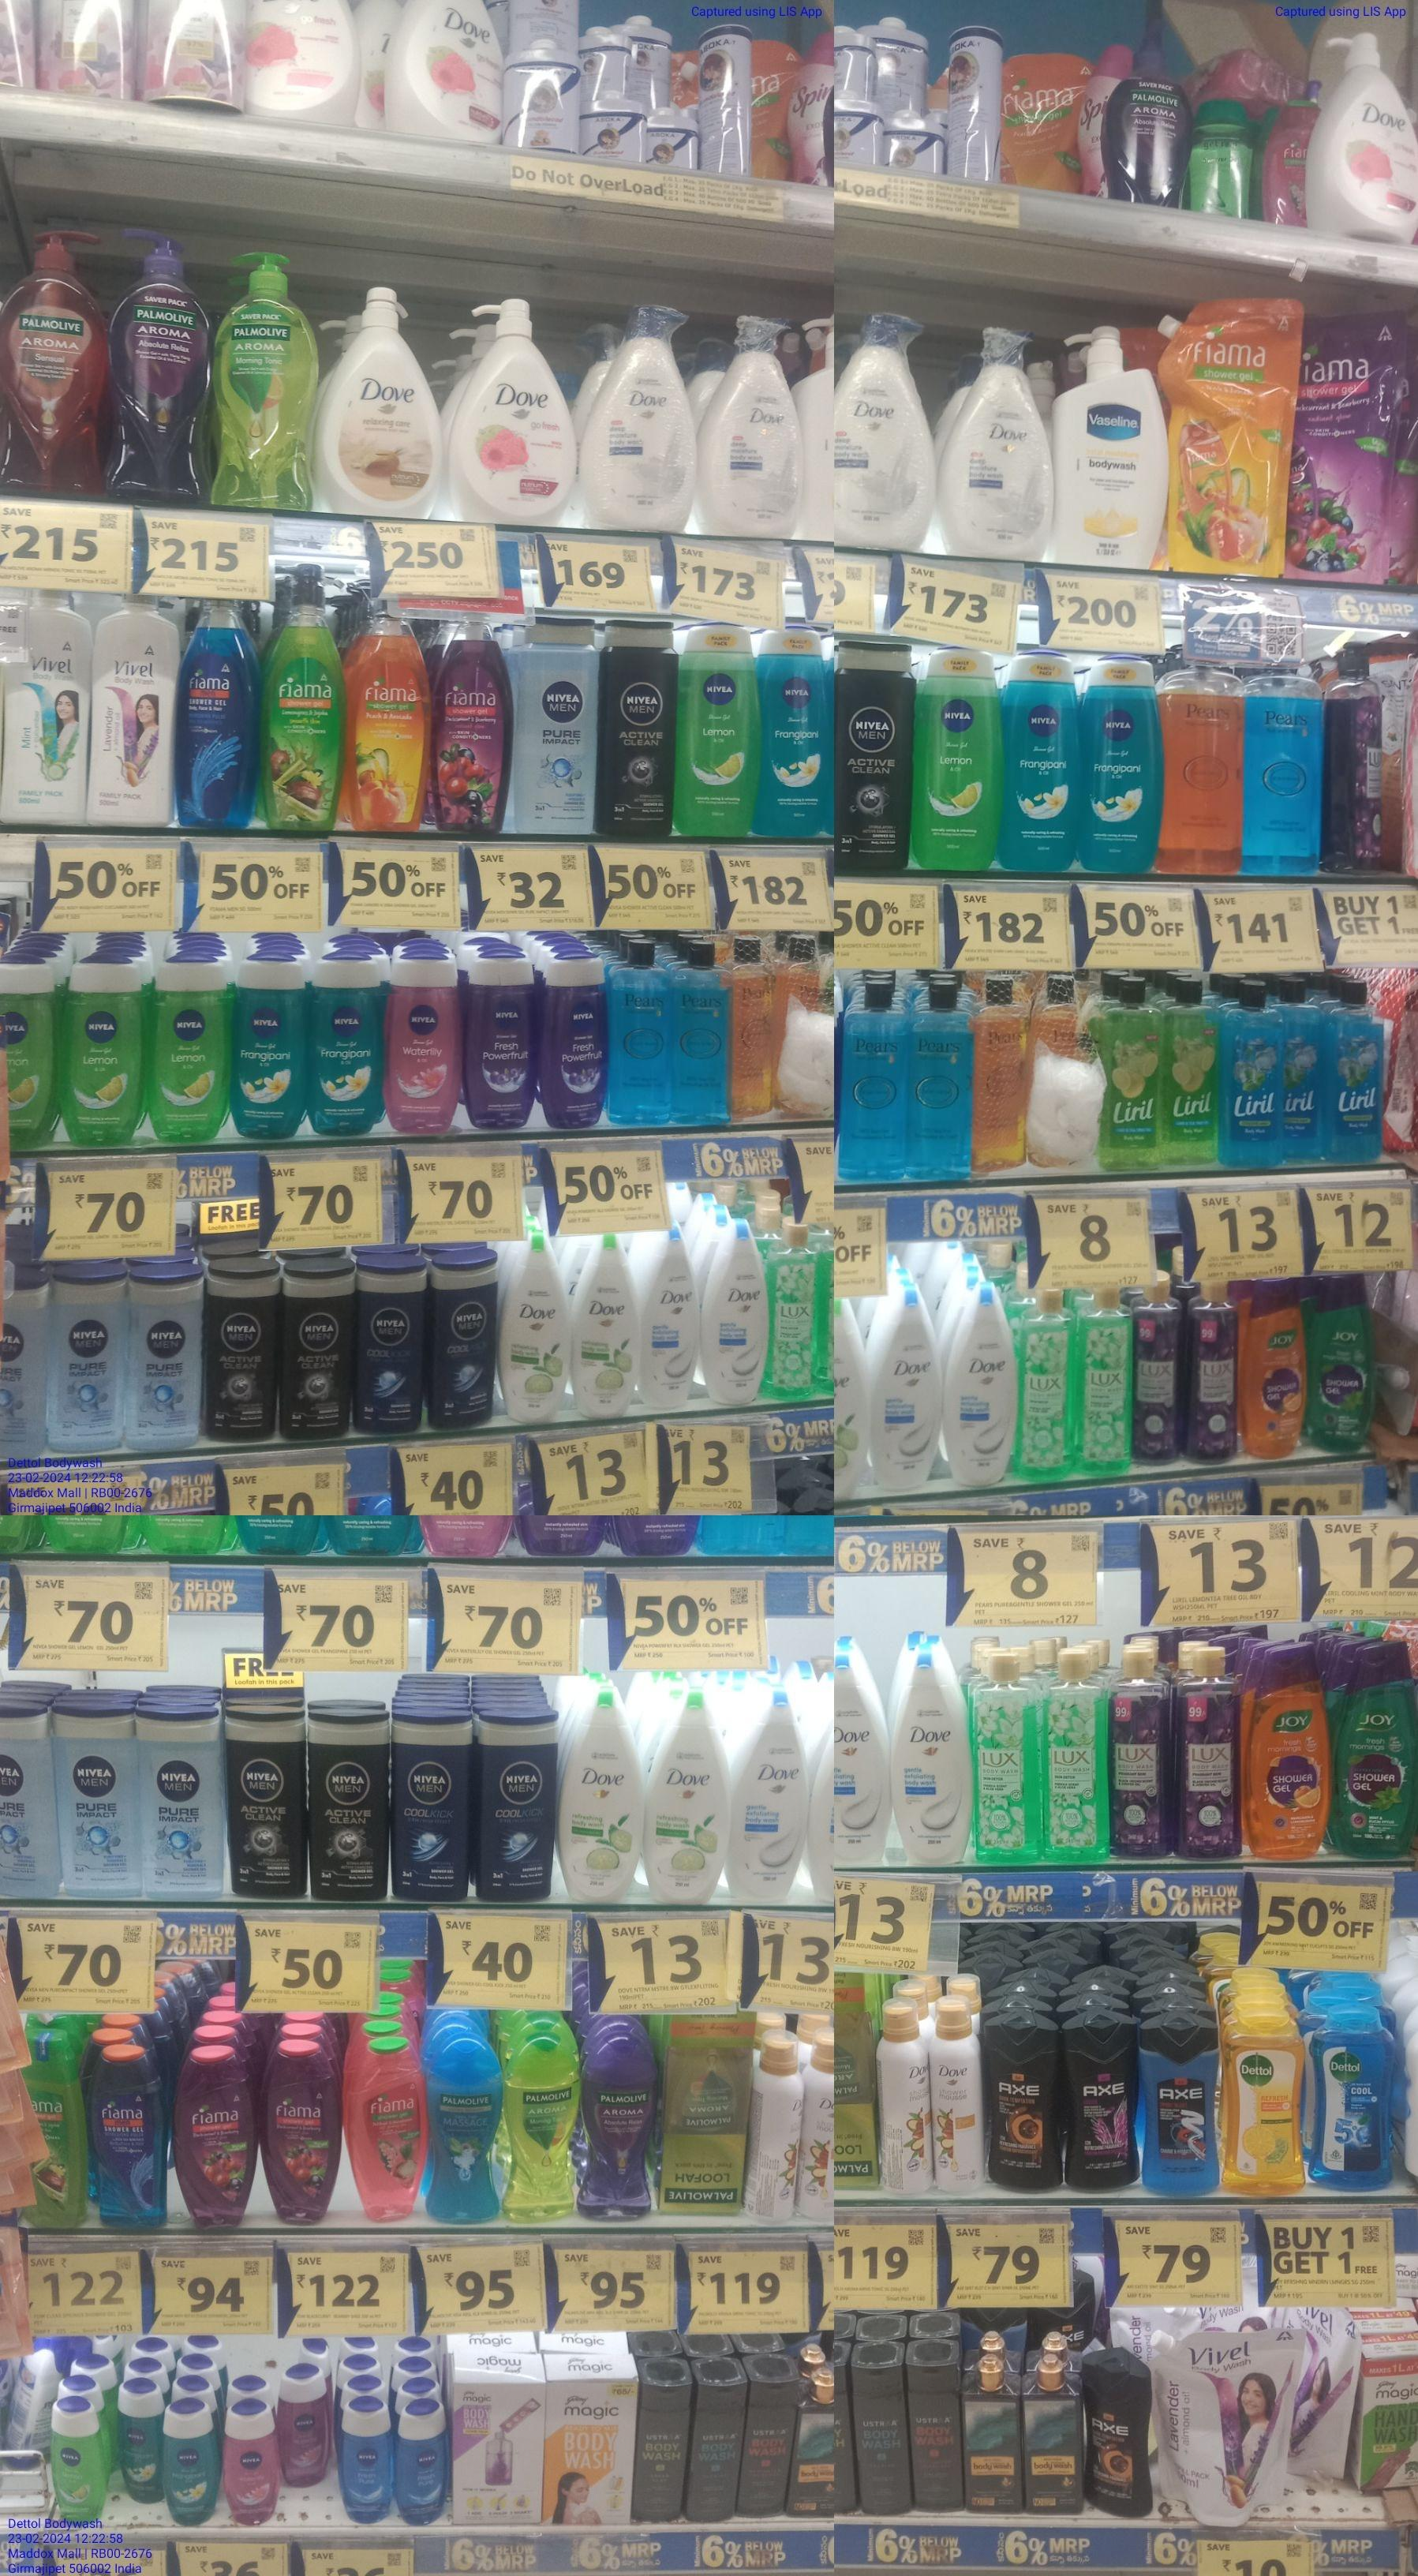Dettol_Bodywash_Cool: (1313, 2008, 1394, 2194)
Dettol_Bodywash_Refresh: (1224, 2001, 1306, 2195)
Dove_Deep_Moisture_Body_Wash_250ML: (706, 1223, 767, 1402), (639, 1231, 695, 1413)
Dove_Gentle_Exfoliating_Body_Wash_250ML: (894, 1642, 969, 1865), (945, 1268, 1011, 1488), (732, 1691, 800, 1898), (868, 1287, 934, 1488), (833, 1645, 892, 1869)
Dove_Refreshing_Body_Wash_250ML: (561, 1680, 639, 1900), (646, 1684, 721, 1904), (501, 1233, 569, 1427), (573, 1235, 637, 1418)
Fiama_Shower_Gel_Patchouli_and_Macadamia_250ML: (353, 2035, 421, 2227)
Joy_Shower_Gel_Mandarin_and_Lemongrass_250ML: (1249, 1640, 1325, 1860), (1240, 1277, 1304, 1455)
Joy_Shower_Gel_Mint_and_Eucalyptus_250ML: (1338, 1628, 1416, 1856), (1308, 1270, 1374, 1453)
Liril_Cooling_Mint_Body_Wash_250ML: (1102, 976, 1165, 1175), (1228, 983, 1287, 1177), (1329, 973, 1388, 1161), (1168, 973, 1219, 1170)
Lux_Black_Orchid_Scent_and_Juniper_Oil_Body_Wash_245ML: (1182, 1650, 1242, 1855), (1116, 1645, 1168, 1860), (1135, 1275, 1186, 1465), (1186, 1275, 1235, 1460)
Lux_Body_Wash_Skin_Detox_Freesia_Scent_and_Alove_Vera_245ML: (973, 1647, 1037, 1862), (1046, 1642, 1105, 1865), (1018, 1284, 1072, 1481), (1076, 1285, 1132, 1476), (768, 1221, 816, 1399)
Nivea_Shower_Gel_Frangipani_and_Oil_250ML: (999, 651, 1083, 878), (1086, 653, 1158, 875), (761, 622, 828, 838), (304, 957, 381, 1139), (231, 957, 304, 1142)
Nivea_Shower_Gel_Fresh_Powerfruit_250ML: (468, 950, 536, 1126), (543, 957, 608, 1130)
Nivea_Shower_Gel_Lemon_and_Oil_250ML: (917, 650, 1002, 875), (676, 623, 761, 842), (147, 957, 227, 1151), (61, 952, 138, 1147), (0, 957, 54, 1151)
Nivea_Shower_Gel_Waterlily_and_Oil_250ML: (381, 945, 458, 1137)
Palmolive_Aroma_Moments_Feel_The_Massage_Shower_Gel_250ML: (428, 2036, 498, 2225)
Palmolive_Aroma_Morning_Tonic_Shower_Gel_250ML: (505, 2042, 576, 2220)
Palmolive_Aroma_Relax_250ML: (582, 2036, 655, 2220)
Pears_Pure_Glycerin_and_Mint_Extracts_Body_Wash_250ML: (910, 978, 974, 1179), (843, 980, 906, 1182), (613, 938, 678, 1128), (679, 934, 733, 1126)
